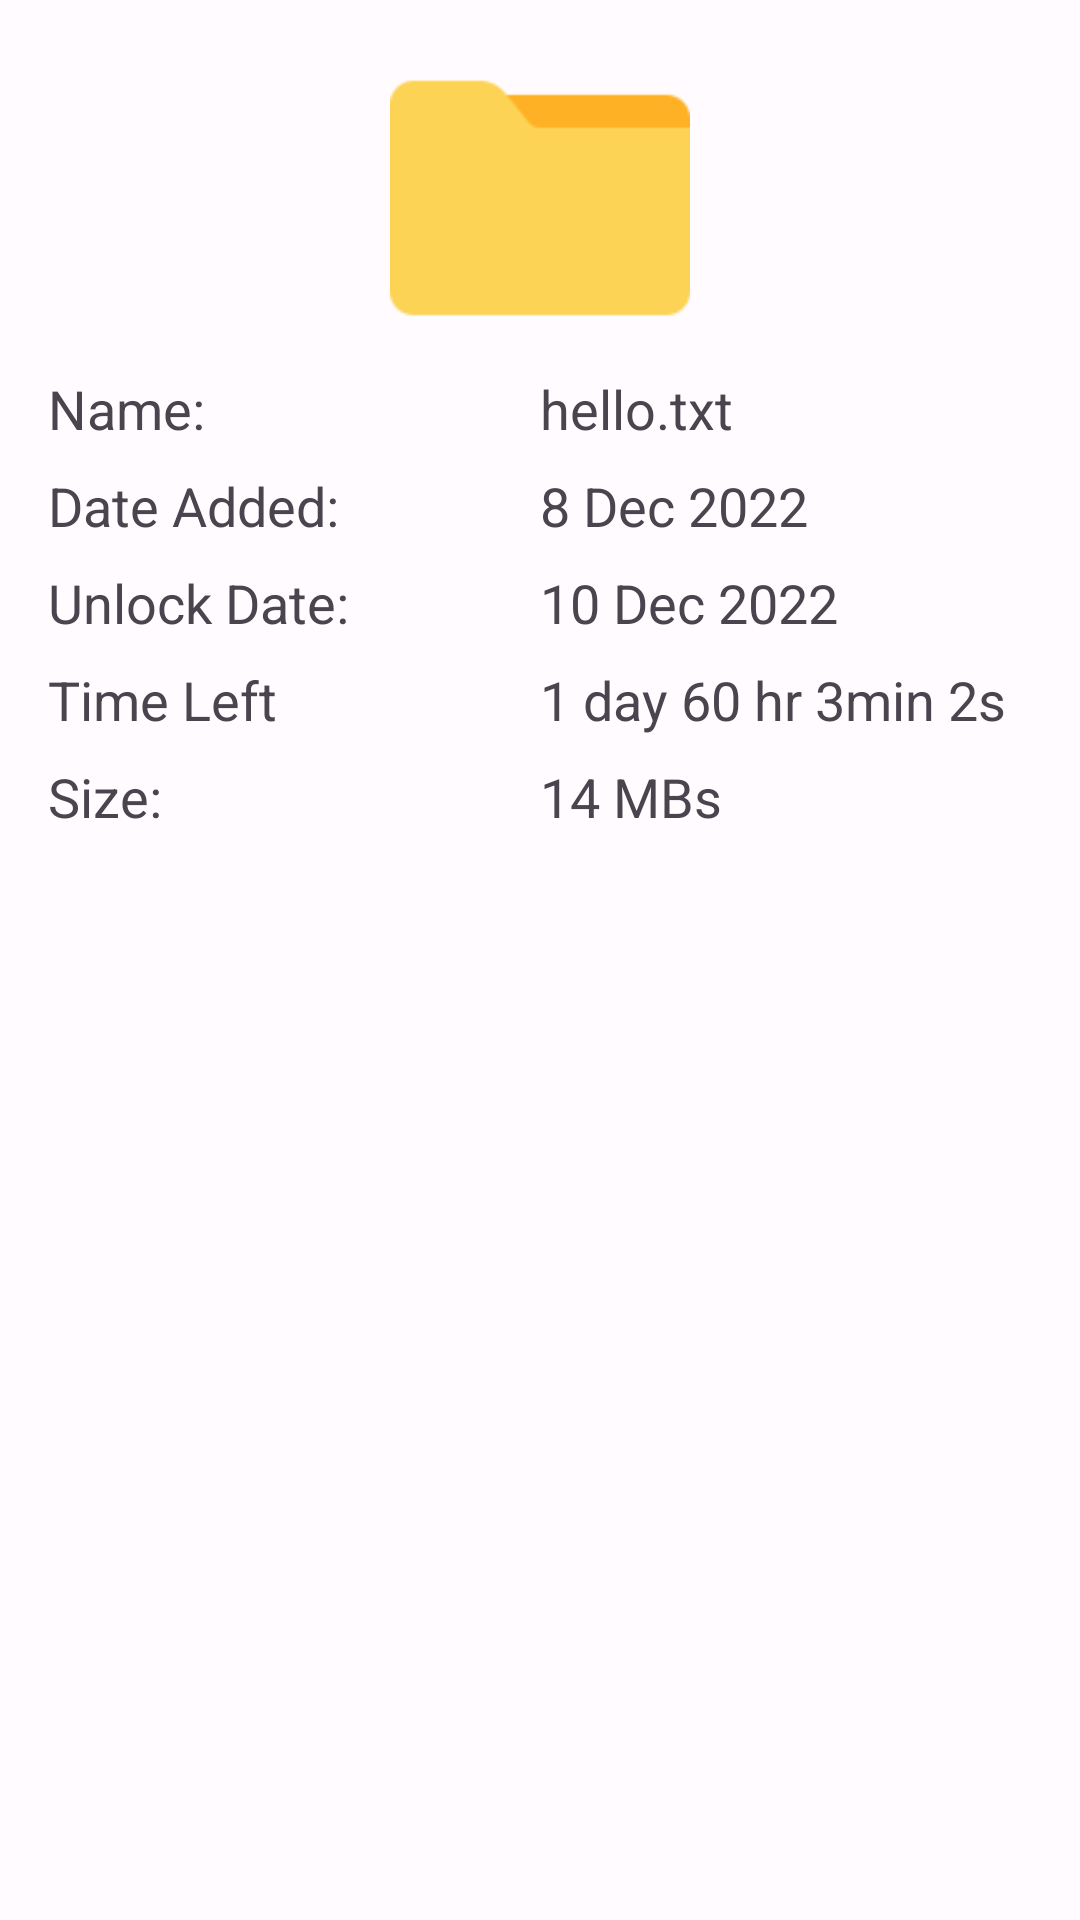

Icon click points for this 1080 × 1920 phone screenshot, format [x,y]:
folder: [540,198]
